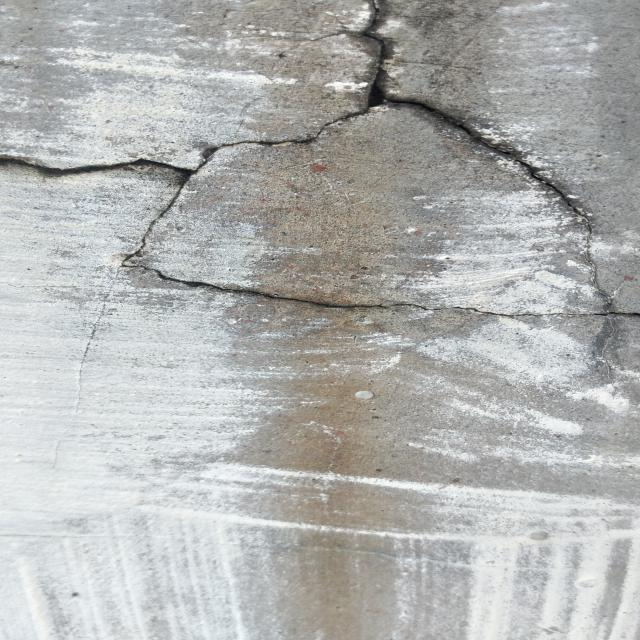Crack: (11, 8, 640, 324)
